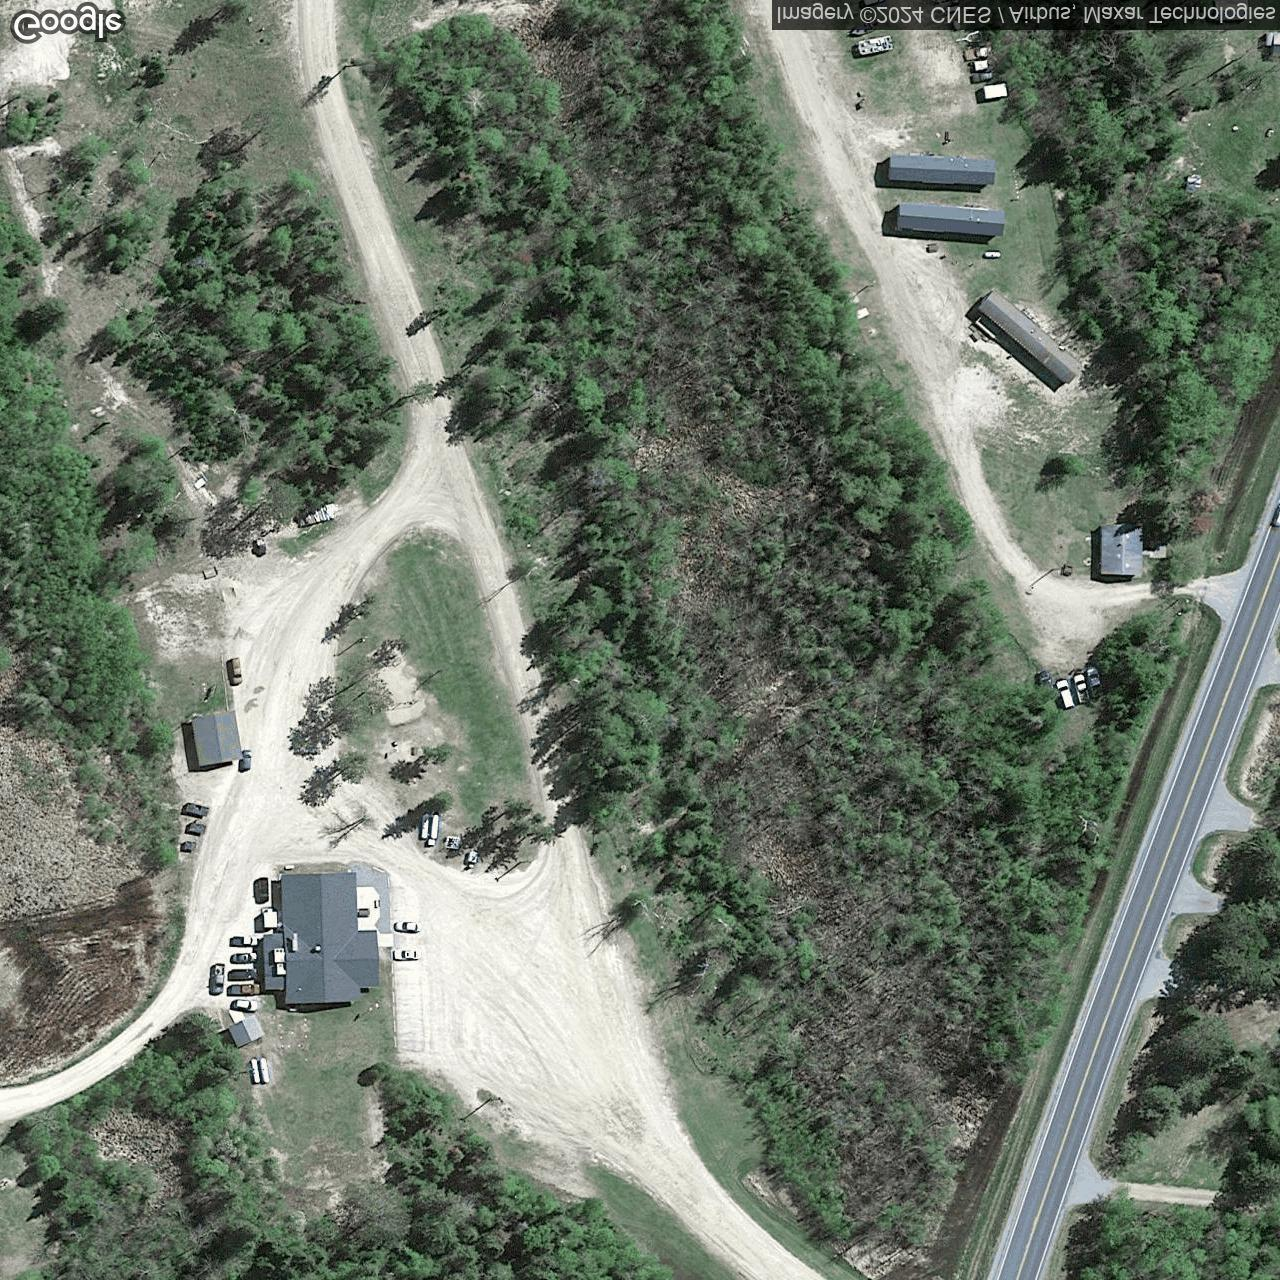Garage: (189, 708, 246, 768), (227, 1015, 266, 1049)
House: (261, 871, 380, 1006), (1099, 524, 1144, 576), (1266, 30, 1280, 59)
Propane: (248, 1057, 261, 1085), (259, 1057, 270, 1085), (430, 813, 441, 839), (420, 812, 430, 838), (982, 251, 1001, 259)
Trailer: (975, 288, 1084, 387), (896, 204, 1006, 236), (887, 155, 994, 185)
